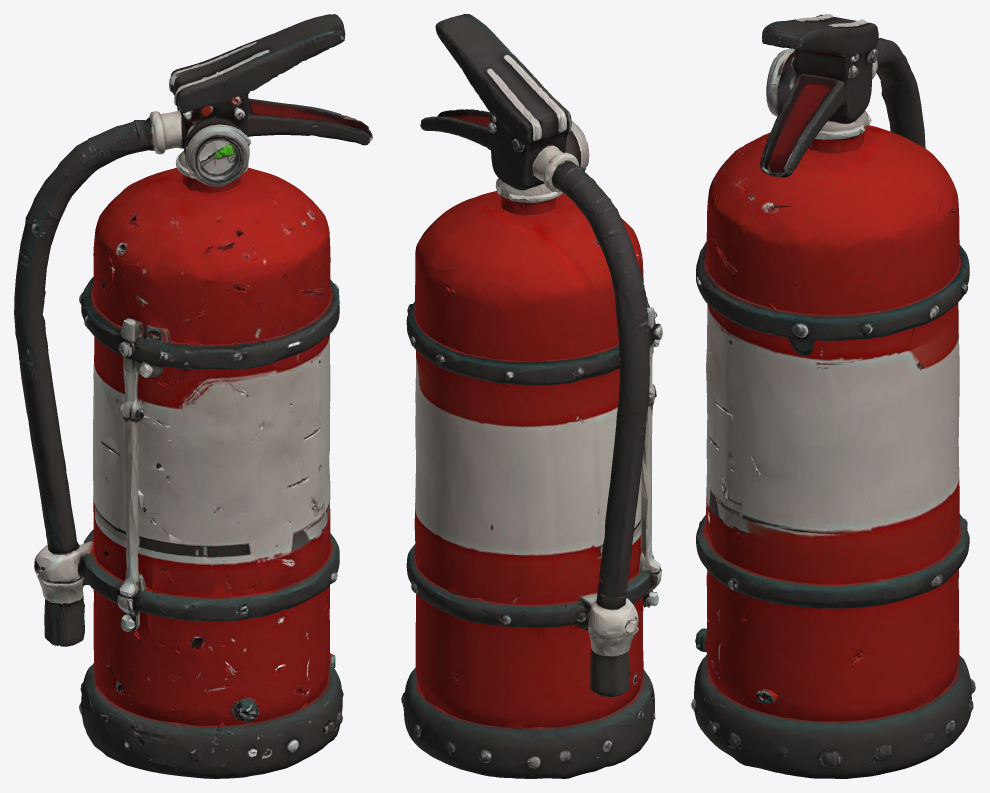
The model's file is objet-extincteur.glb.
3 views of the same model, side by side, from view 1: azimuth 30°, elevation 25°; view 2: azimuth 150°, elevation 25°; view 3: azimuth 270°, elevation 25° (orthographic). The views are drawn at different scales.
Size of the model in its own units: 0.4311 by 0.9797 by 0.3386.
Materials: 1 (1 with a texture image).
